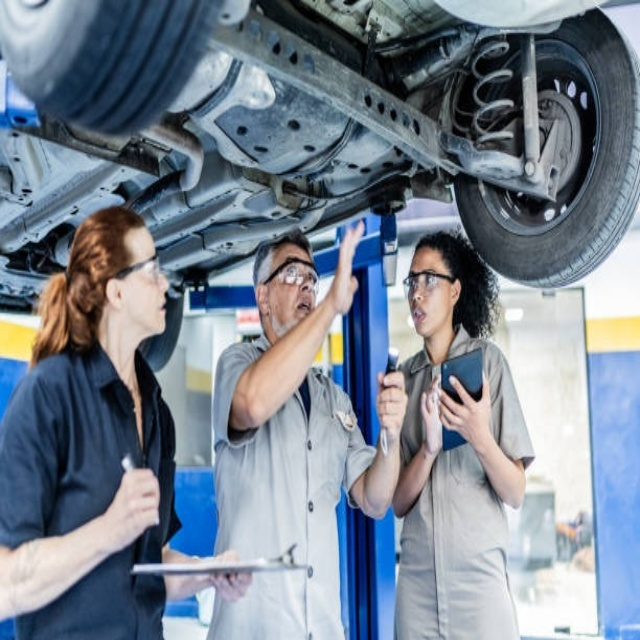Gafas: (261, 258, 319, 293), (110, 253, 162, 282), (402, 272, 456, 297)
Sin_guantes: (439, 366, 497, 441), (107, 462, 165, 534), (334, 216, 369, 313), (372, 368, 409, 443), (416, 372, 445, 451), (205, 568, 257, 610)
Sin_mascara: (145, 293, 169, 332), (408, 302, 434, 335), (284, 294, 314, 321)
